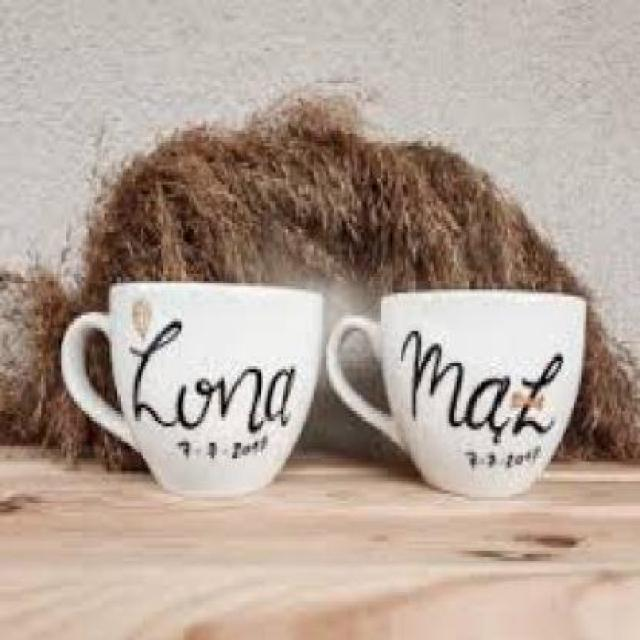cup: (57, 274, 327, 503), (325, 286, 592, 502)
